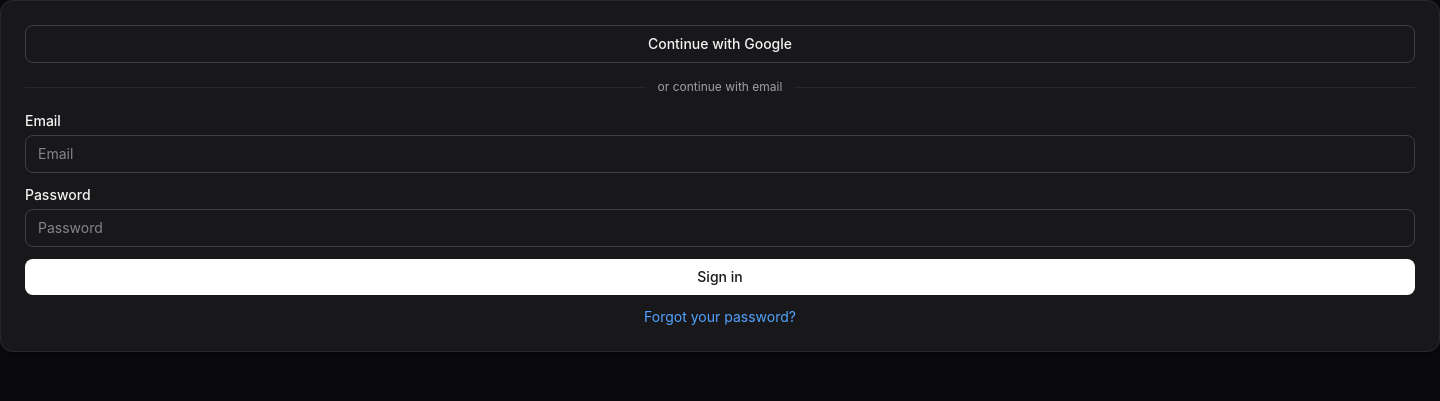
Test: LoginForm › shows an error on bad credentials
In the field labelled "Email": (720, 154) left=25, top=135, right=1415, bottom=173, type "a@example.com"
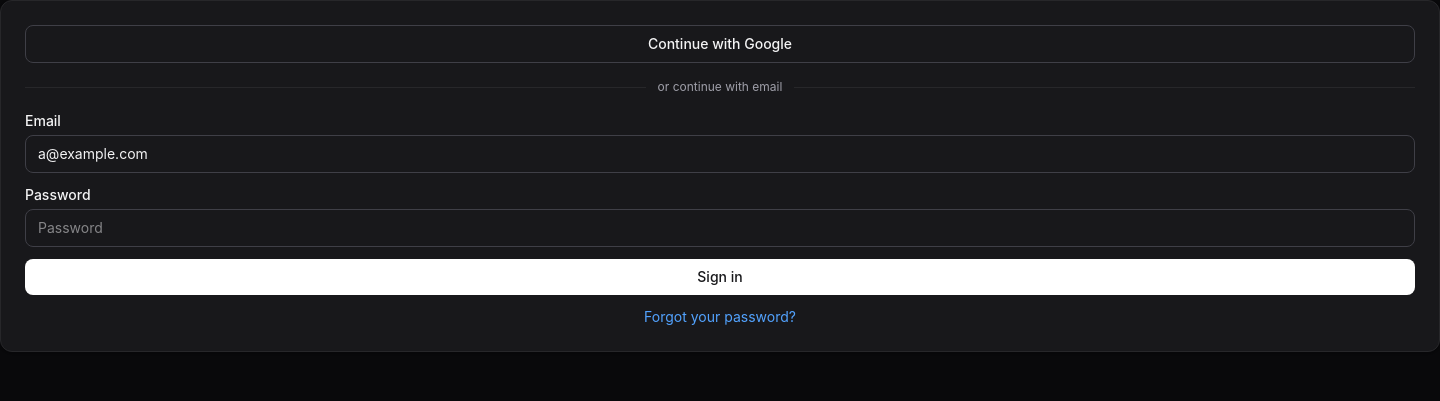
In the password field labelled "Password": (720, 228) left=25, top=209, right=1415, bottom=247, type "wrong"
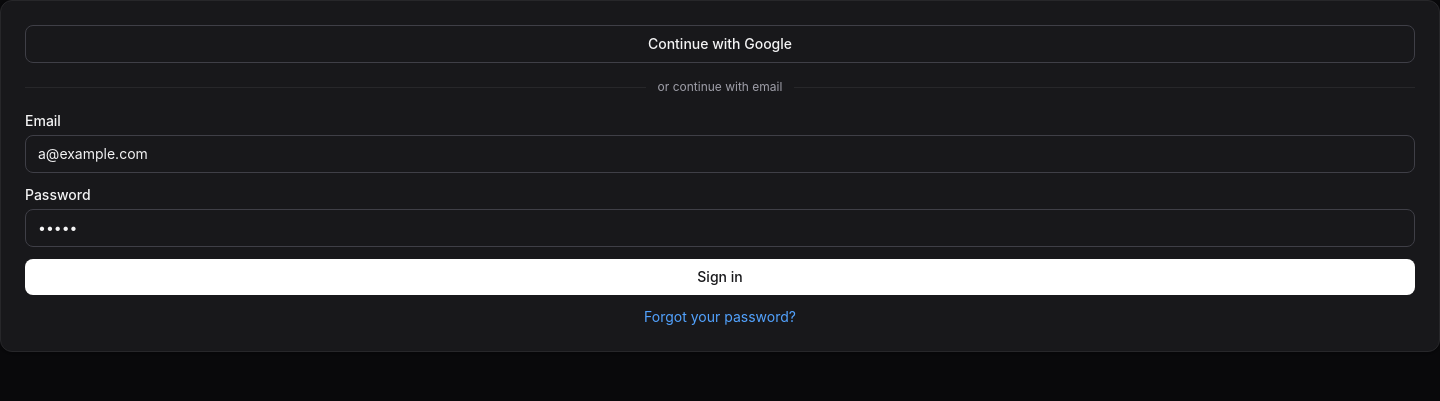
Click the button "Sign in": (720, 277) left=25, top=259, right=1415, bottom=295
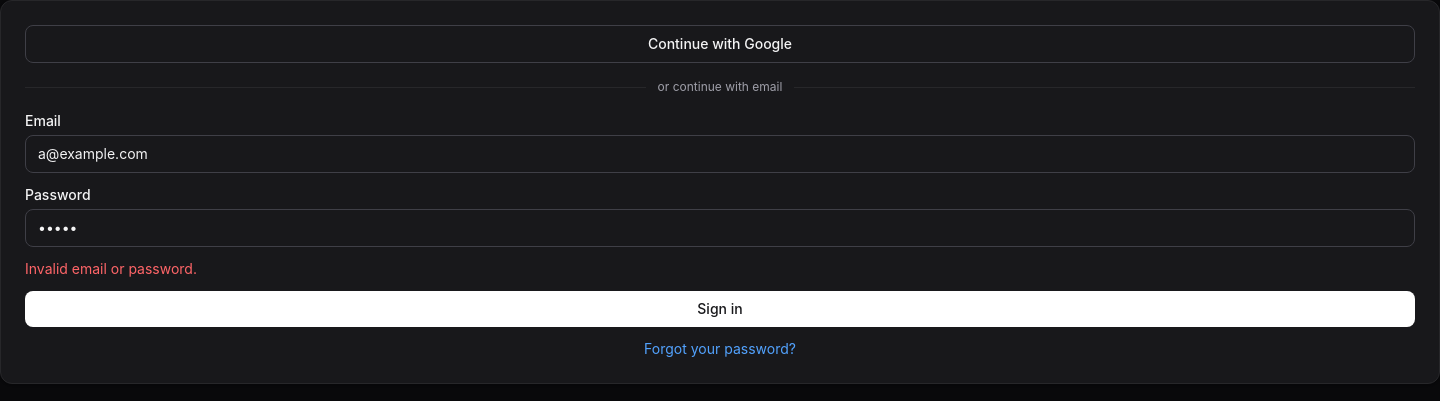
Expected: the message reads "Invalid email or password.", left=25, top=260, right=197, bottom=277
